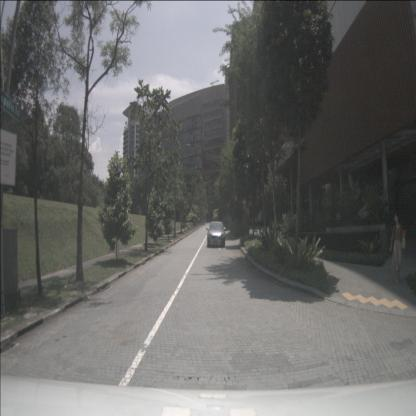human-pedestrian-adult: (390, 212, 406, 284)
vehicle-car: (207, 221, 225, 248)
